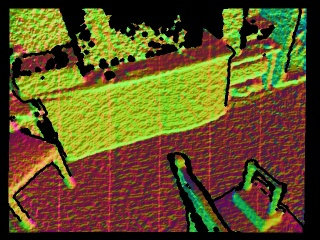station: (232, 159, 283, 233)
